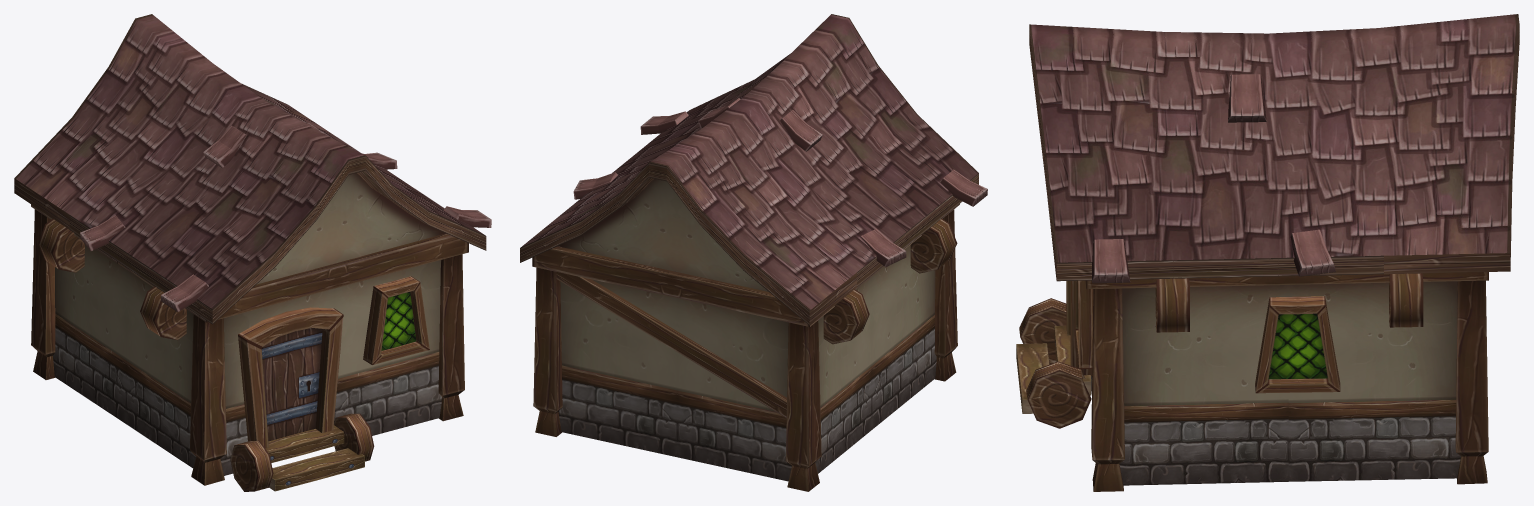
Rendered from medieval-house.glb.
The picture shows the model from 3 angles, left to right: view 1: azimuth 30°, elevation 25°; view 2: azimuth 150°, elevation 25°; view 3: azimuth 270°, elevation 25°; orthographic projection. The views are drawn at different scales.
Visible parts, largest first — view 1: haunted_house_027; view 2: haunted_house_027; view 3: haunted_house_027.
Part boxes in pixels (<box>): haunted_house_027: <box>14,14,491,491</box>; haunted_house_027: <box>520,14,987,491</box>; haunted_house_027: <box>1016,14,1519,491</box>.
Size of the model in its own units: 7.15 by 6.57 by 7.66.
2 materials, 2 textured.
